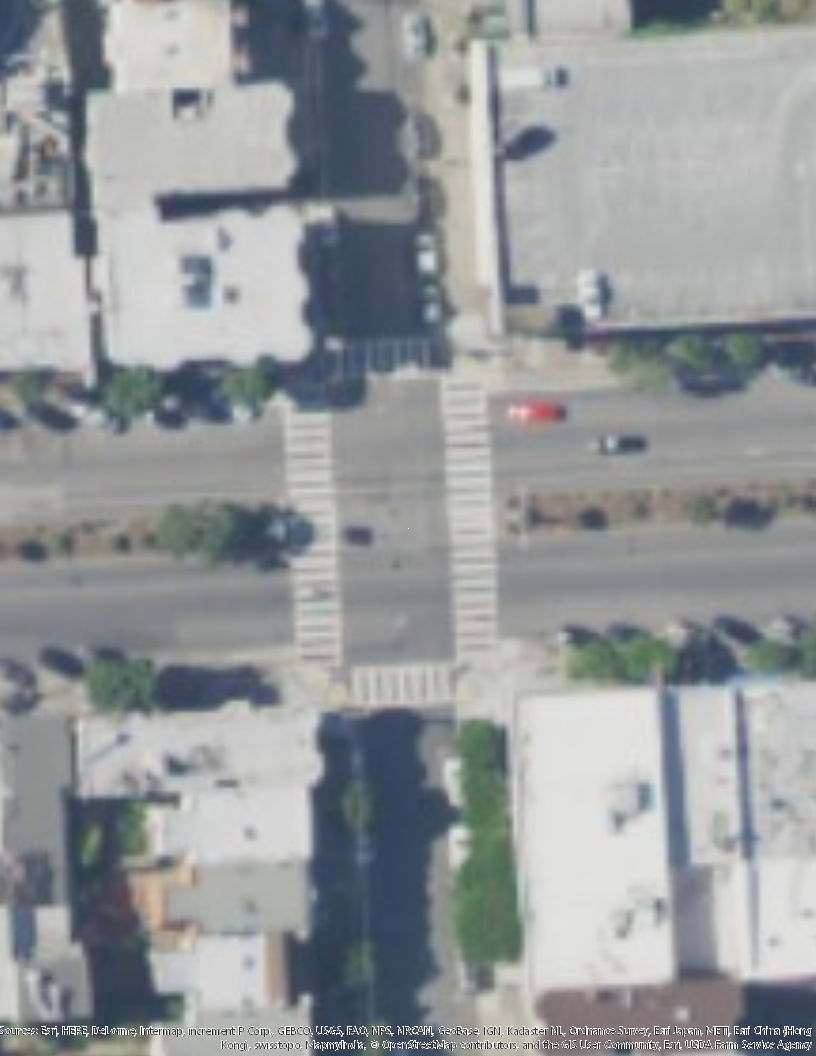zebracross: (282, 379, 349, 668), (442, 381, 501, 654), (342, 663, 461, 709), (330, 333, 445, 377)
